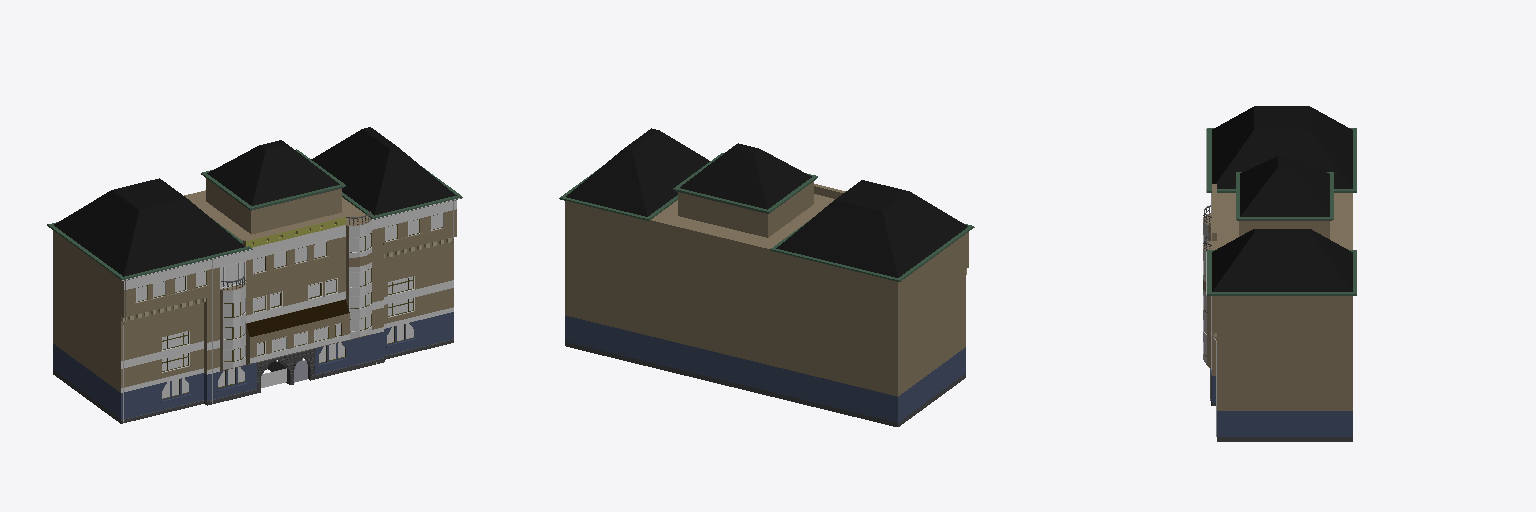
Rendered from building09.obj.
The picture shows the model from 3 angles: view 1: azimuth 30°, elevation 25°; view 2: azimuth 150°, elevation 25°; view 3: azimuth 270°, elevation 25°; orthographic projection.
Parts seen in each view (by area): view 1: Layer_0; view 2: Layer_0; view 3: Layer_0.
Part boxes in pixels (bbox=[...]): Layer_0: bbox=[47, 127, 462, 423]; Layer_0: bbox=[559, 128, 974, 426]; Layer_0: bbox=[1203, 106, 1356, 441].
Bounding box in the file's own units: 46.02 × 27 × 18.